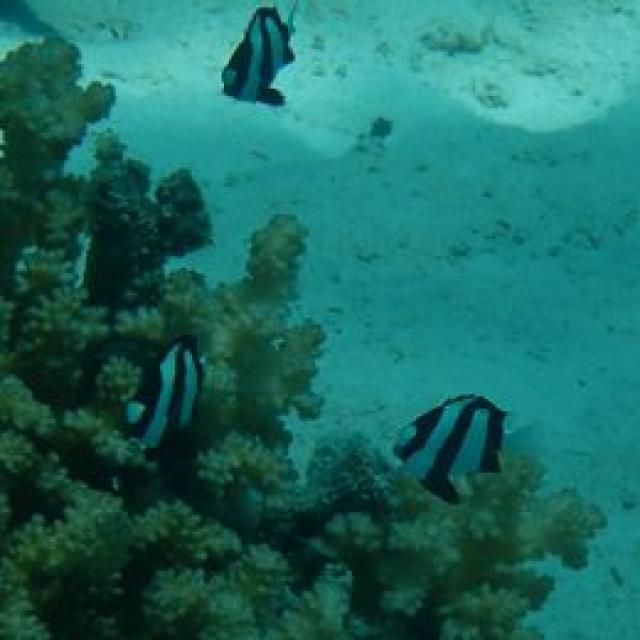ThreeStripedDamselfish: (394, 394, 539, 505), (123, 335, 204, 455), (219, 7, 298, 108)
